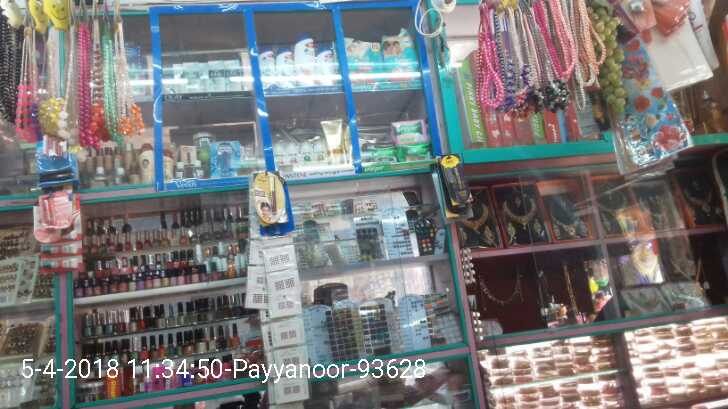venus: (213, 140, 240, 176)
